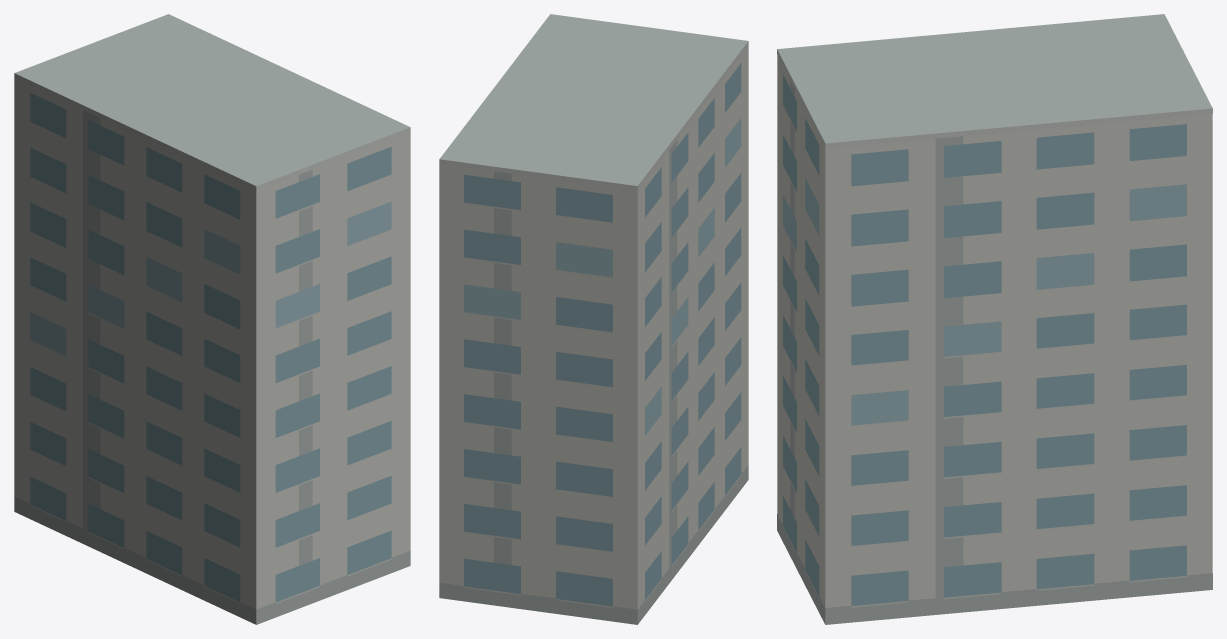
Rendered from survey-upis-32971149.glb.
3 views of the same model, side by side, from view 1: azimuth 30°, elevation 25°; view 2: azimuth 150°, elevation 25°; view 3: azimuth 270°, elevation 25° (orthographic). The views are drawn at different scales.
Parts seen in each view (by area): view 1: survey-upis-32971149.tmp; view 2: survey-upis-32971149.tmp; view 3: survey-upis-32971149.tmp.
Boxes of the visible parts, x1,y1,x2,y2 form: survey-upis-32971149.tmp: [14, 14, 410, 624]; survey-upis-32971149.tmp: [439, 14, 748, 624]; survey-upis-32971149.tmp: [777, 14, 1212, 624].
Size of the model in its own units: 12.93 by 22.4 by 18.38.
